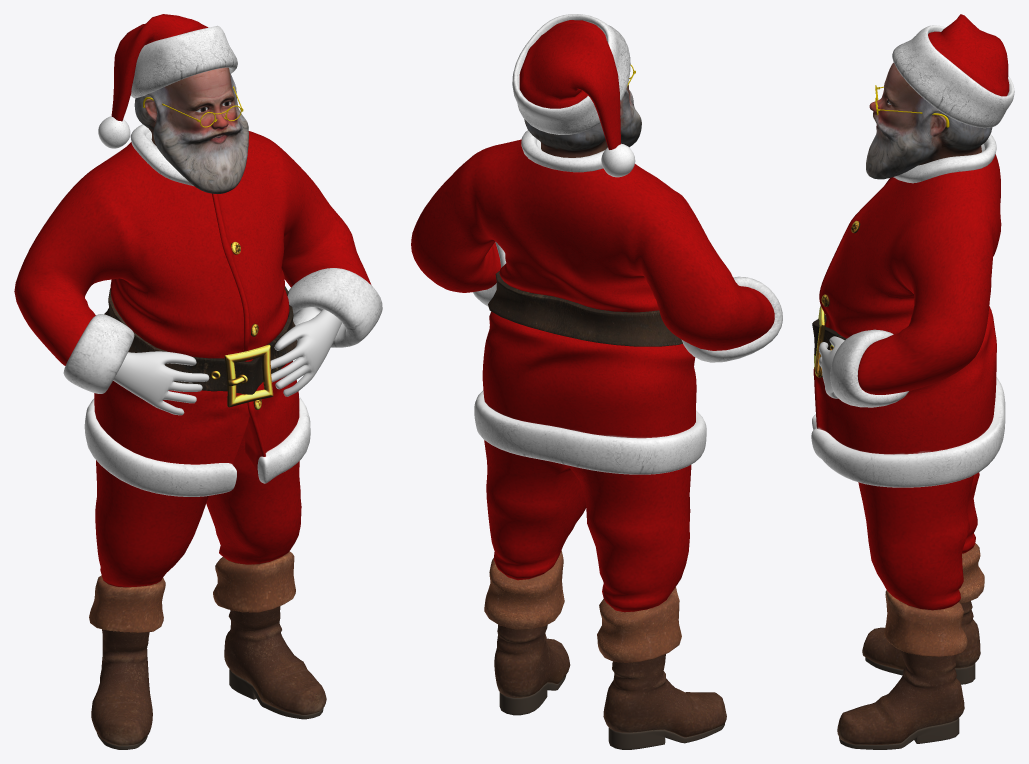
File: Santa_Claus.fbx
3 renders of one model, left to right at view 1: azimuth 30°, elevation 25°; view 2: azimuth 150°, elevation 25°; view 3: azimuth 270°, elevation 25°, orthographic. The views are drawn at different scales.
Visible parts, largest first — view 1: _Santa_Claus_v1_l2:_Santa_Claus_Body, _Santa_Claus_v1_l2:_Santa_Claus_Head, _Santa_Claus_v1_l2:_Santa_Claus_Gloves; view 2: _Santa_Claus_v1_l2:_Santa_Claus_Body, _Santa_Claus_v1_l2:_Santa_Claus_Head; view 3: _Santa_Claus_v1_l2:_Santa_Claus_Body, _Santa_Claus_v1_l2:_Santa_Claus_Head, _Santa_Claus_v1_l2:_Santa_Claus_Gloves.
Boxes of the visible parts, left/top/right/bottom form: _Santa_Claus_v1_l2:_Santa_Claus_Body: left=14, top=14, right=382, bottom=749; _Santa_Claus_v1_l2:_Santa_Claus_Head: left=134, top=67, right=248, bottom=193; _Santa_Claus_v1_l2:_Santa_Claus_Gloves: left=113, top=309, right=341, bottom=415; _Santa_Claus_v1_l2:_Santa_Claus_Body: left=411, top=14, right=782, bottom=749; _Santa_Claus_v1_l2:_Santa_Claus_Head: left=524, top=85, right=641, bottom=157; _Santa_Claus_v1_l2:_Santa_Claus_Body: left=811, top=14, right=1014, bottom=749; _Santa_Claus_v1_l2:_Santa_Claus_Head: left=866, top=62, right=992, bottom=179; _Santa_Claus_v1_l2:_Santa_Claus_Gloves: left=819, top=336, right=844, bottom=398.
Size of the model in its own units: 89.75 by 182 by 49.25.
Materials: 4 (2 with a texture image).
